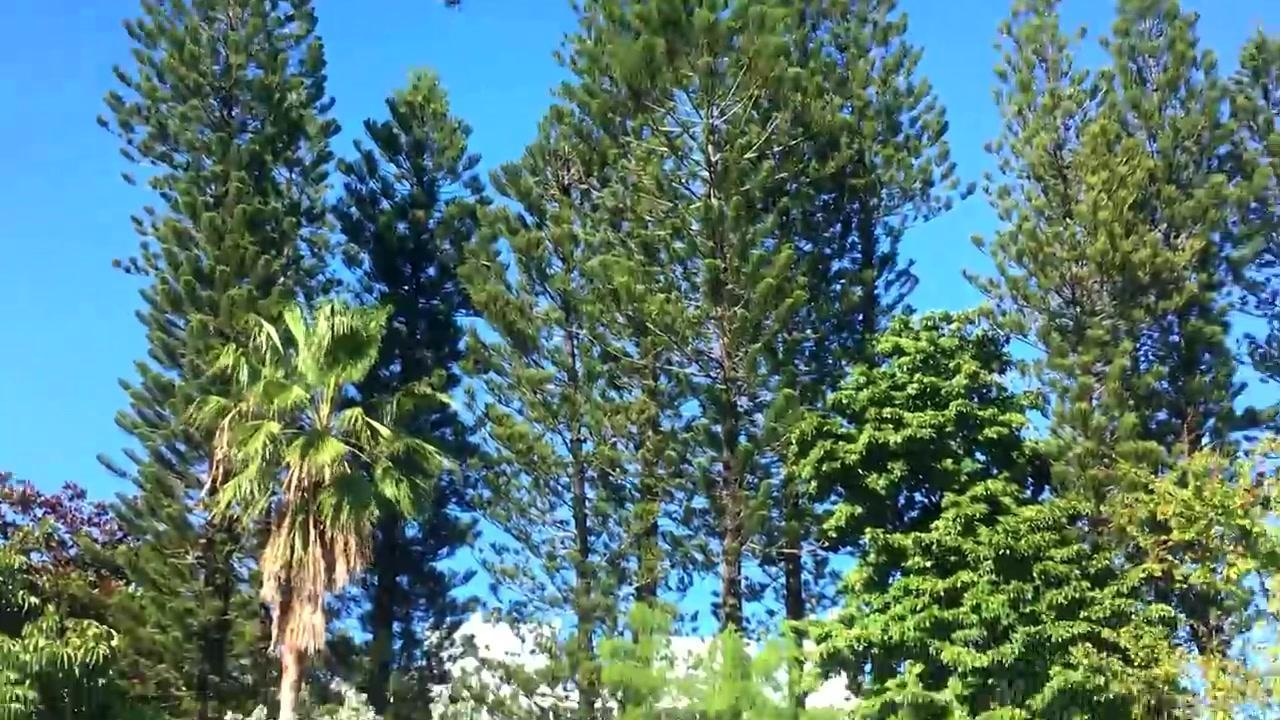UAV: (445, 1, 465, 10)
